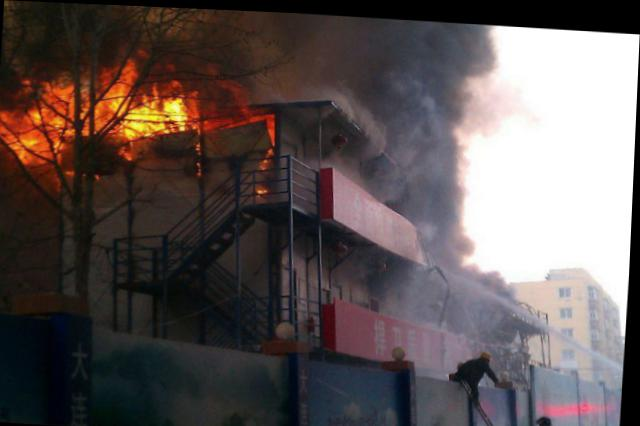fire: (0, 107, 72, 164), (120, 79, 195, 131), (91, 64, 132, 133), (26, 76, 74, 110), (203, 108, 249, 126), (264, 107, 277, 143), (118, 140, 136, 157), (257, 182, 266, 189)
